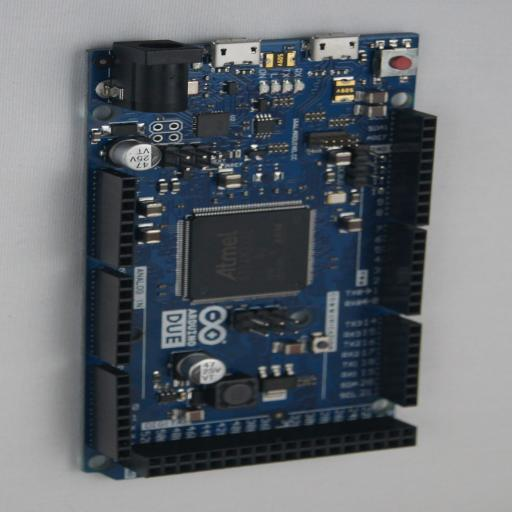Arduino Due: (73, 33, 436, 479)
